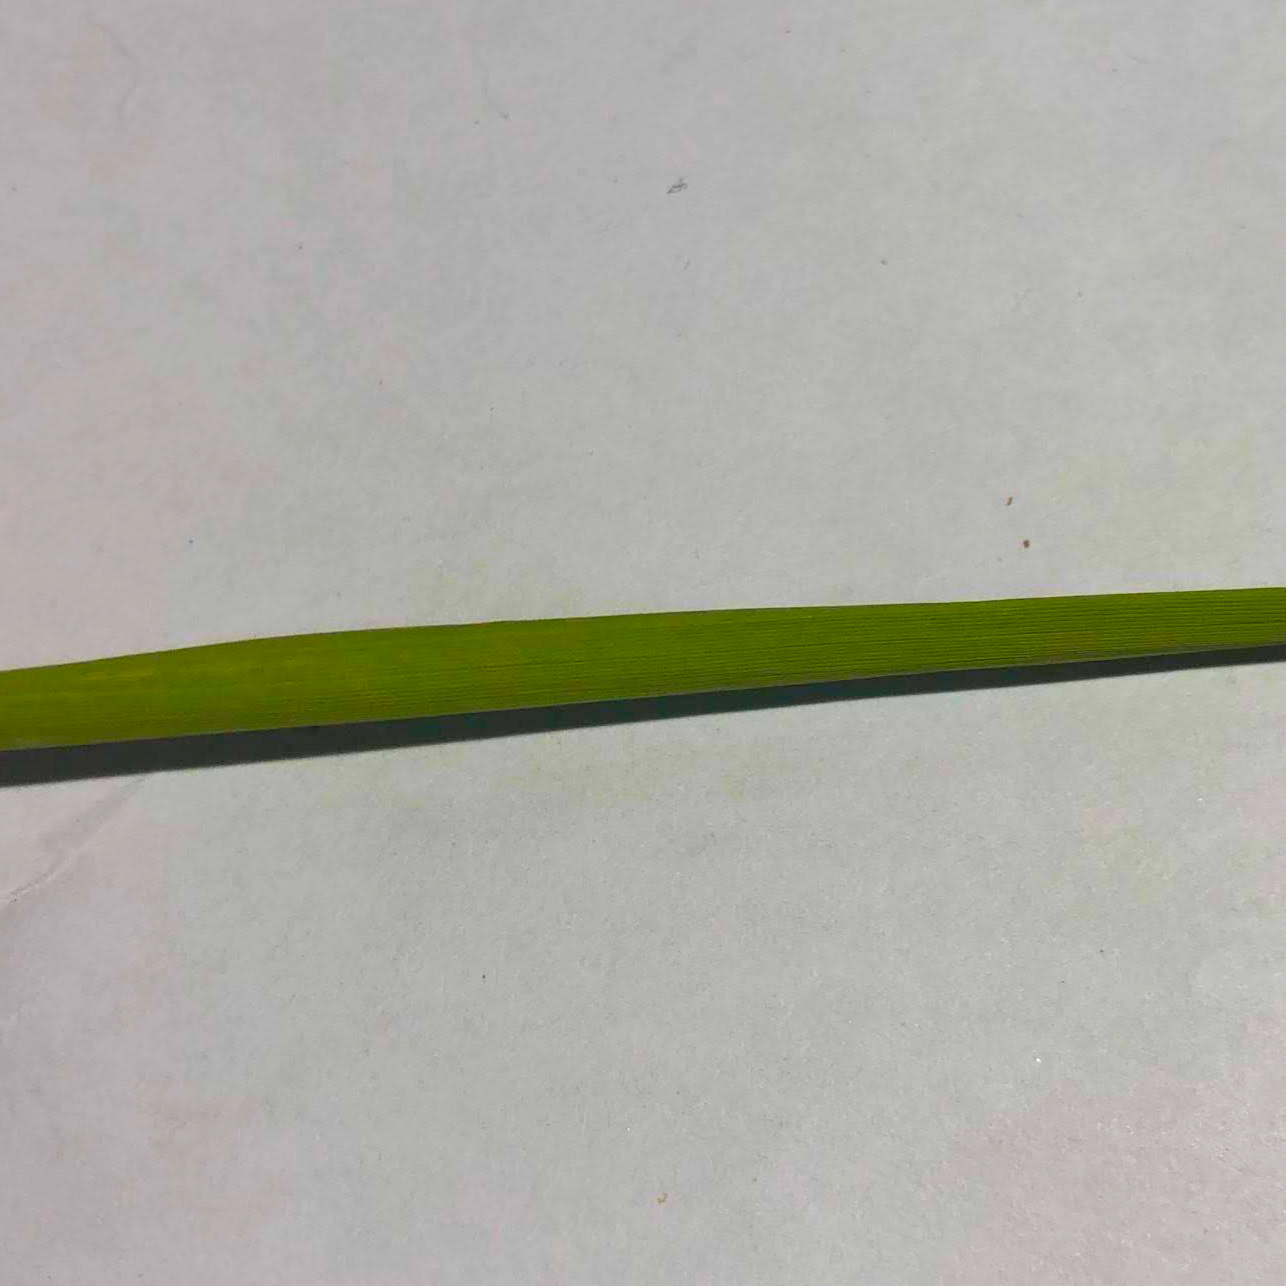healthy: (5, 581, 1286, 773)
